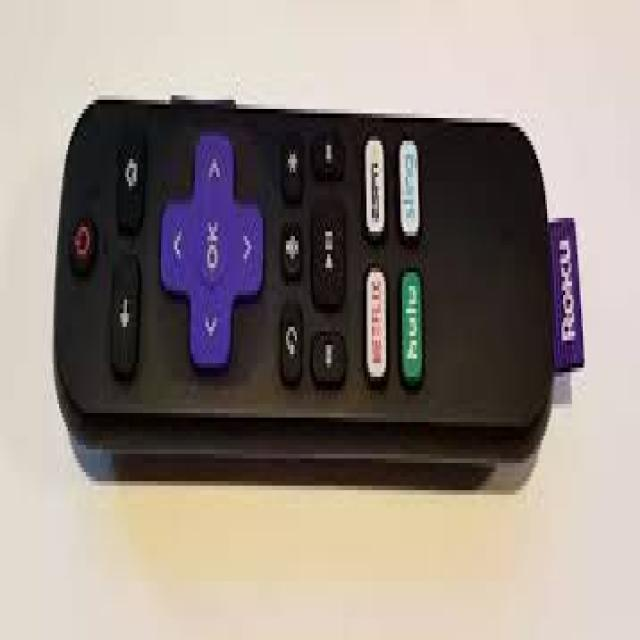remote: (54, 99, 560, 503)
